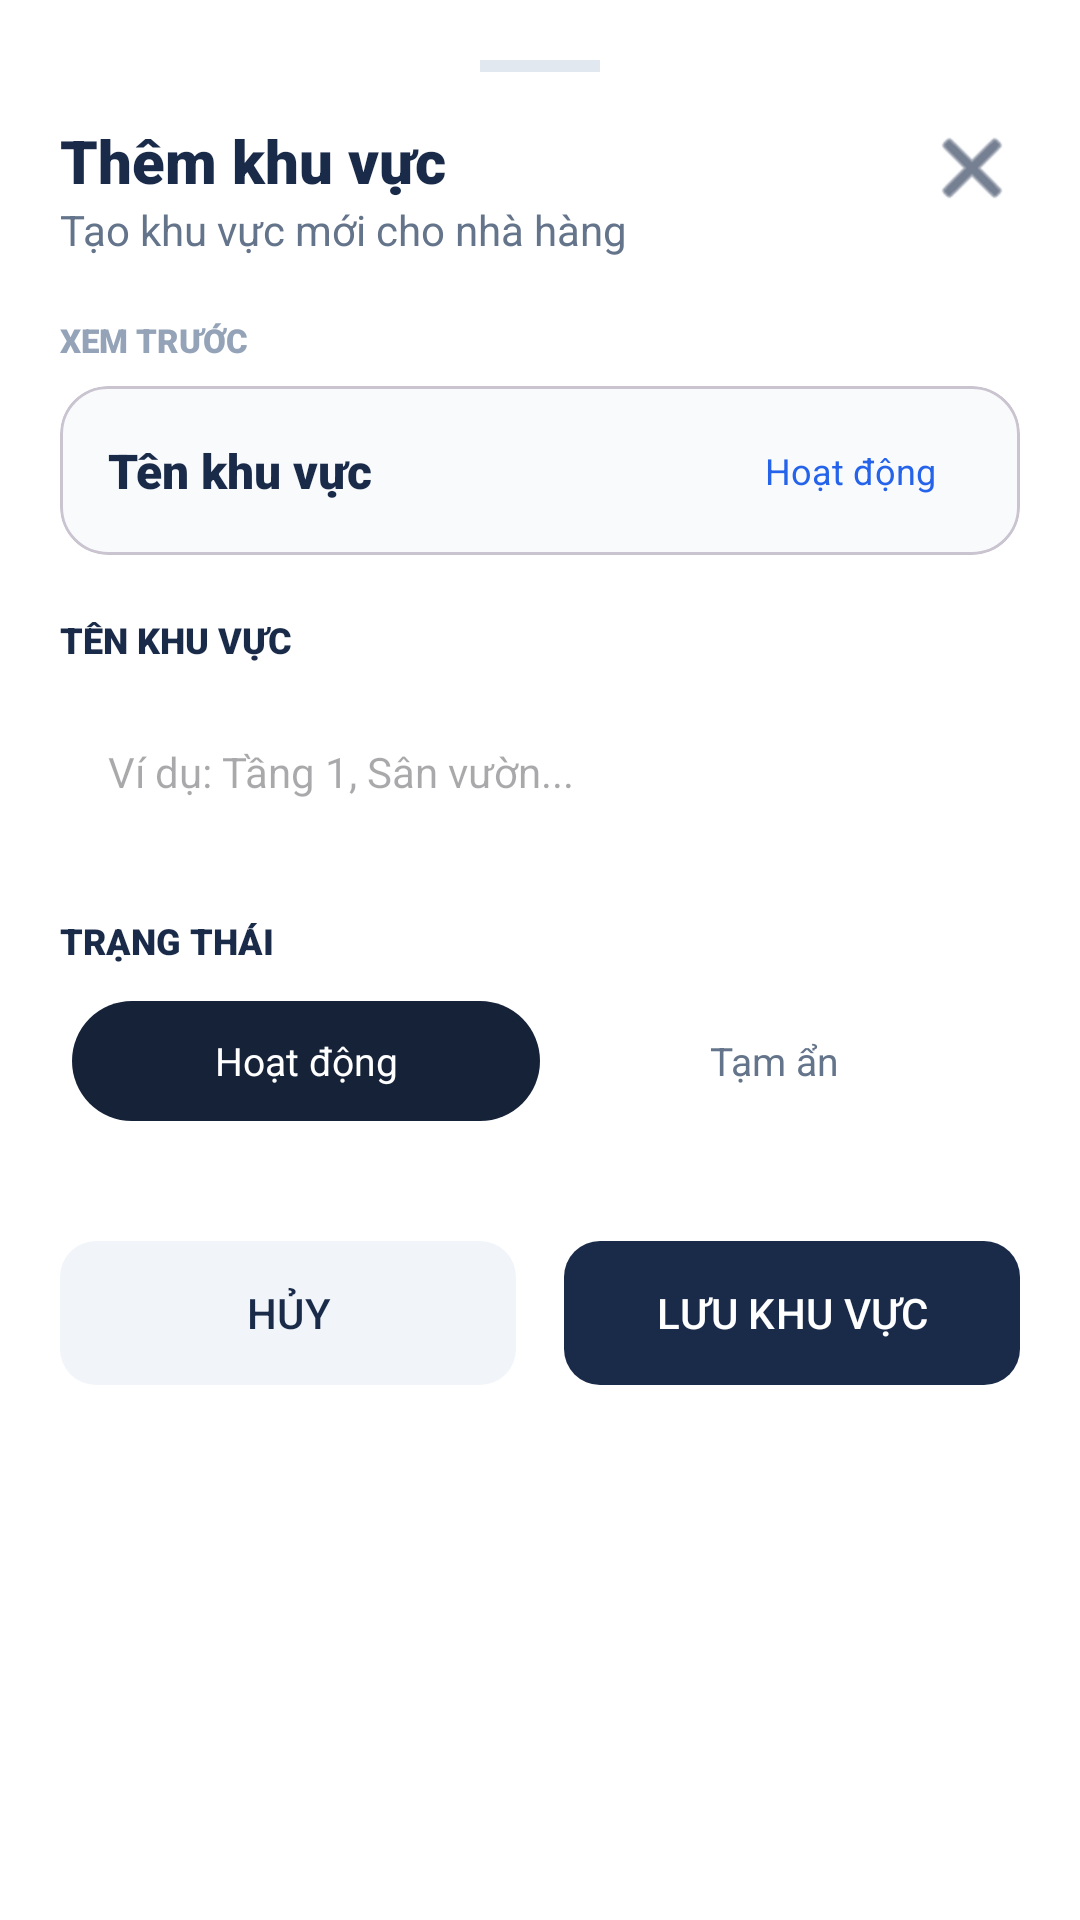

Named icons in this screenshot (1080px x 1920px) and their centers, [x,y]:
Đóng: [972,168]
